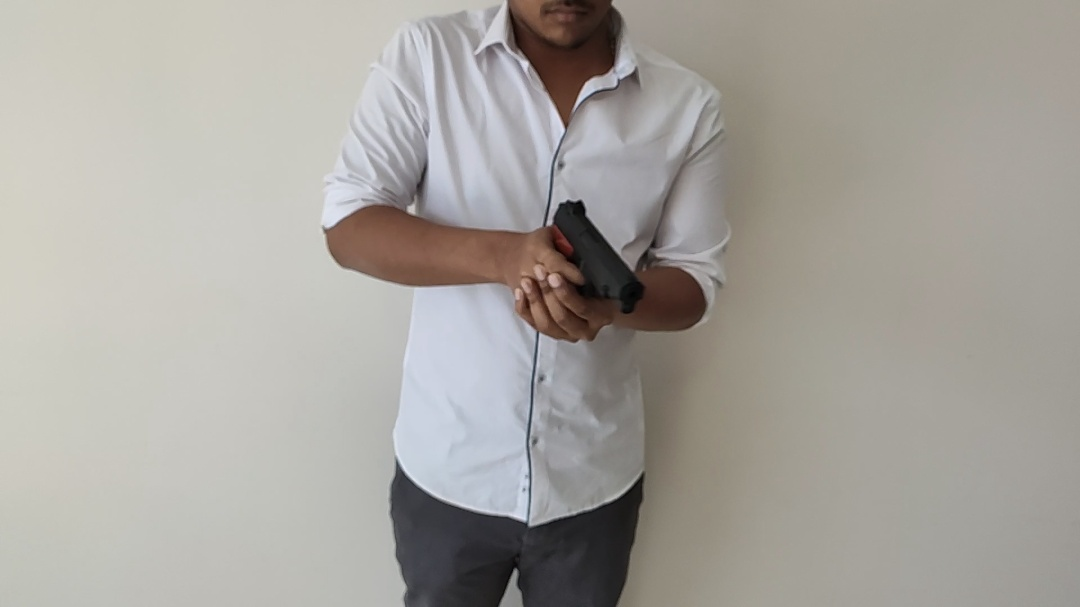gun: (321, 78, 688, 544)
